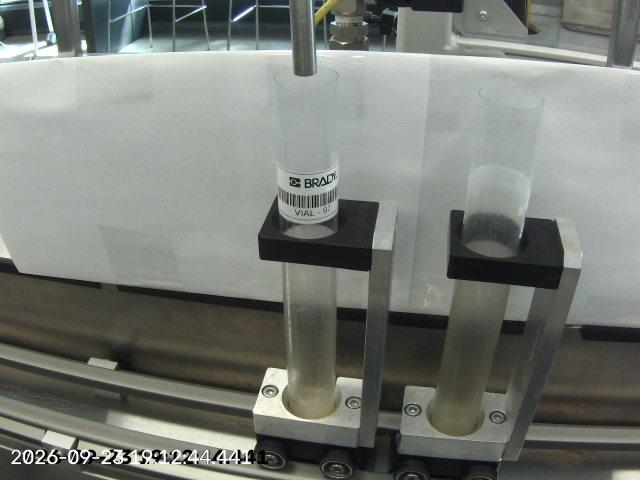vial: (427, 82, 546, 434), (269, 65, 341, 417)
